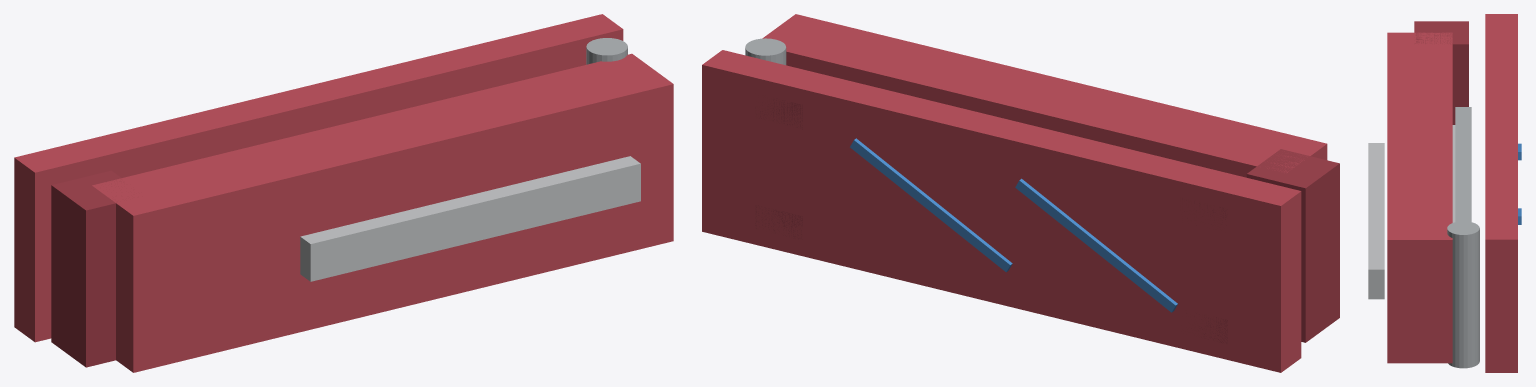
Rendered from mini_grapadora_roja.glb.
The picture shows the model from 3 angles, left to right: view 1: azimuth 30°, elevation 25°; view 2: azimuth 150°, elevation 25°; view 3: azimuth 270°, elevation 25°; orthographic projection. The views are drawn at different scales.
Parts seen in each view (by area): view 1: pieza_01, pieza_00, pieza_06, pieza_02, pieza_05; view 2: pieza_00, pieza_01, pieza_02, pieza_25, pieza_26, pieza_05; view 3: pieza_01, pieza_00, pieza_05, pieza_06, pieza_02, pieza_03, pieza_04.
Part boxes in pixels (x1,y1,x2,y2): pieza_01: (92, 53, 673, 372); pieza_00: (14, 14, 623, 342); pieza_06: (300, 156, 640, 281); pieza_02: (51, 170, 123, 367); pieza_05: (586, 38, 627, 64); pieza_00: (702, 50, 1301, 372); pieza_01: (762, 14, 1327, 177); pieza_02: (1246, 149, 1339, 342); pieza_25: (1015, 178, 1177, 312); pieza_26: (850, 138, 1012, 272); pieza_05: (745, 38, 786, 65); pieza_01: (1387, 32, 1452, 363); pieza_00: (1485, 14, 1517, 372); pieza_05: (1447, 221, 1479, 368); pieza_06: (1368, 143, 1384, 299); pieza_02: (1414, 21, 1468, 124); pieza_03: (1455, 107, 1471, 221); pieza_04: (1452, 125, 1455, 222).
Bounding box in the file's own units: 0.098 × 0.027 × 0.0282.
